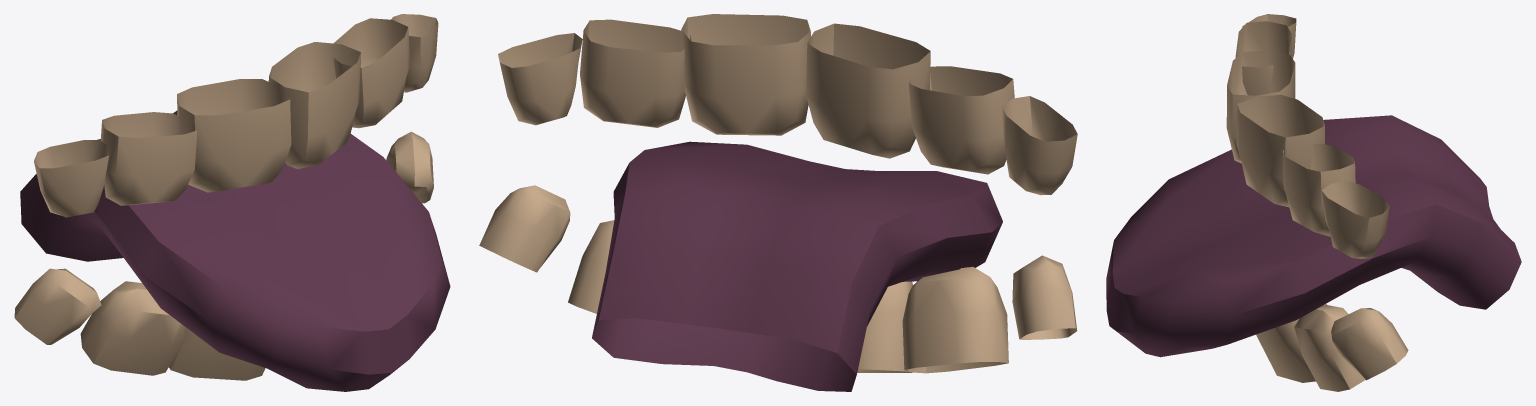
File: Mushnub_Evolved.002.fbx
The picture shows the model from 3 angles, left to right: view 1: azimuth 30°, elevation 25°; view 2: azimuth 150°, elevation 25°; view 3: azimuth 270°, elevation 25°; orthographic projection. The views are drawn at different scales.
Visible parts, largest first — view 1: Mushnub_Evolved.002; view 2: Mushnub_Evolved.002; view 3: Mushnub_Evolved.002.
Boxes of the visible parts, <box> form: Mushnub_Evolved.002: <box>14,14,450,391</box>; Mushnub_Evolved.002: <box>479,14,1077,391</box>; Mushnub_Evolved.002: <box>1106,14,1521,391</box>.
Size of the model in its own units: 79.97 by 47.89 by 66.89.
